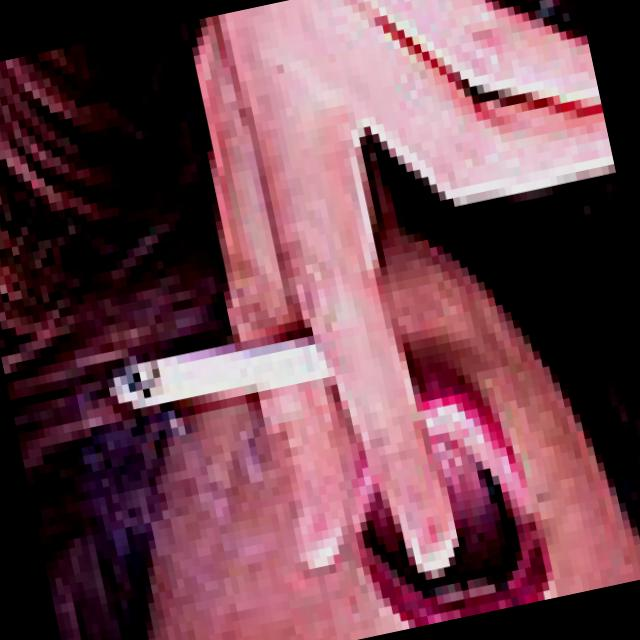smoke: (78, 284, 384, 450)
